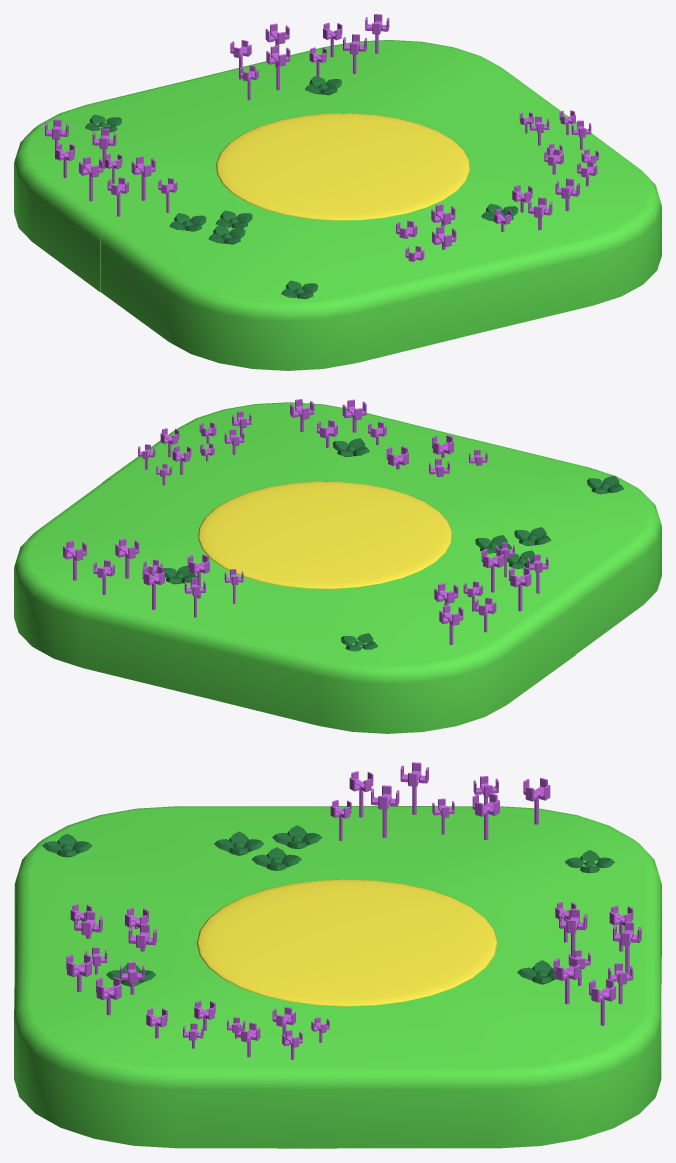
File: CreatureBuilerStage.fbx
The picture shows the model from 3 angles, top to bottom: view 1: azimuth 30°, elevation 25°; view 2: azimuth 150°, elevation 25°; view 3: azimuth 270°, elevation 25°; orthographic projection. The views are drawn at different scales.
Parts seen in each view (by area): view 1: Flowers_2.004; view 2: Flowers_2.004; view 3: Flowers_2.004.
Boxes of the visible parts, box(x1,y1,x2,y2) form: Flowers_2.004: box(14, 14, 661, 370); Flowers_2.004: box(14, 399, 661, 733); Flowers_2.004: box(14, 762, 661, 1148).
Size of the model in its own units: 5.77 by 1.17 by 5.75.
